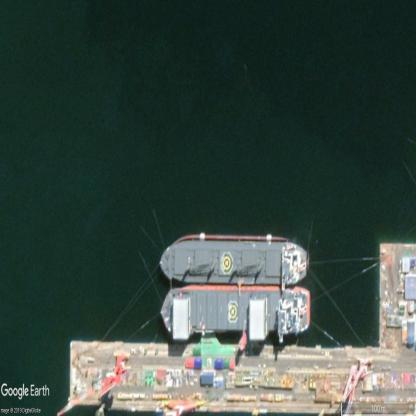ship: (161, 285, 311, 338), (160, 234, 310, 285)
